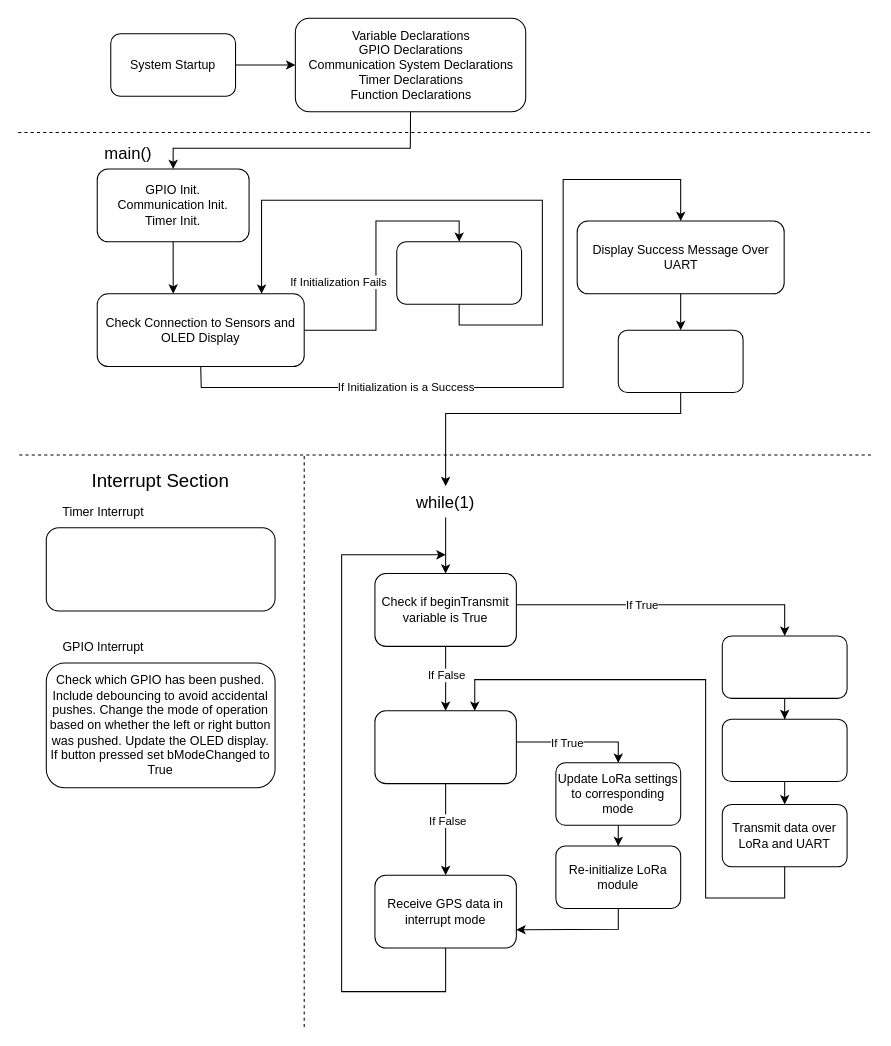
Some shapes in this 891 by 1046 pixel diagram are drawn without their labels. Here are the shapes that lost their labels. From the top down, the centre of each, then its label:
the point at 459,272: Print Error Message
the point at 680,361: Receive the latest GPS reading in blocking mode
the point at 160,569: Once the timer register has completed one full cycle, set beginTransmit to True
the point at 784,666: Get the latest GPS, temperature, pressure and humidity readings.
the point at 445,747: Check if bModeChanged variable is True
the point at 784,750: Construct a packet of data to be transmitted.
